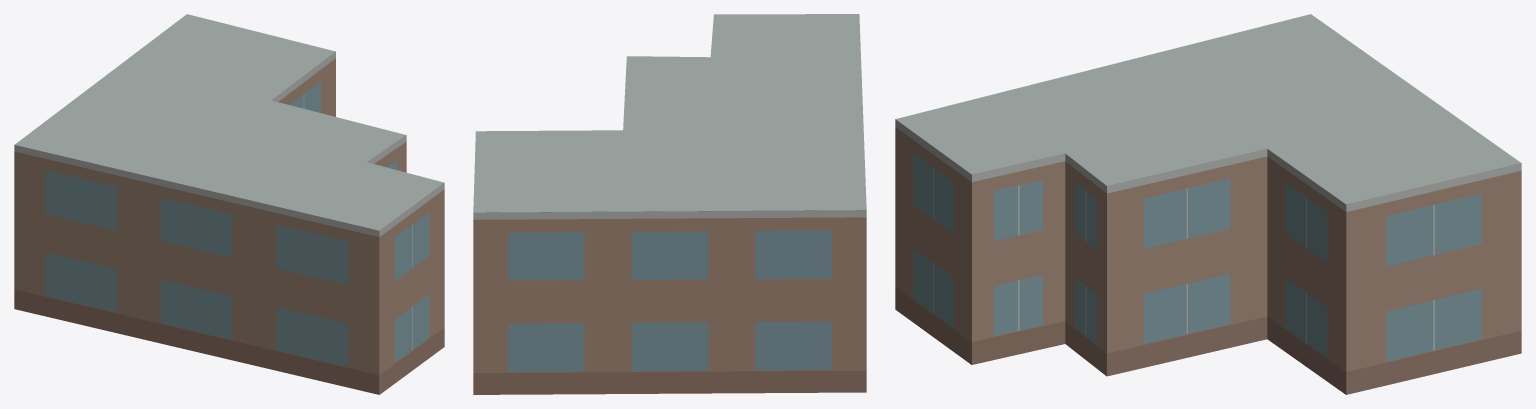
File: survey-upis-32678640.glb
The picture shows the model from 3 angles, left to right: view 1: azimuth 30°, elevation 25°; view 2: azimuth 150°, elevation 25°; view 3: azimuth 270°, elevation 25°; orthographic projection. The views are drawn at different scales.
Visible parts, largest first — view 1: survey-upis-32678640.tmp; view 2: survey-upis-32678640.tmp; view 3: survey-upis-32678640.tmp.
Boxes of the visible parts, left/top/right/bottom form: survey-upis-32678640.tmp: left=14, top=14, right=444, bottom=394; survey-upis-32678640.tmp: left=473, top=14, right=866, bottom=394; survey-upis-32678640.tmp: left=895, top=14, right=1521, bottom=394.
Bounding box in the file's own units: 13.1 × 6.1 × 18.2.
